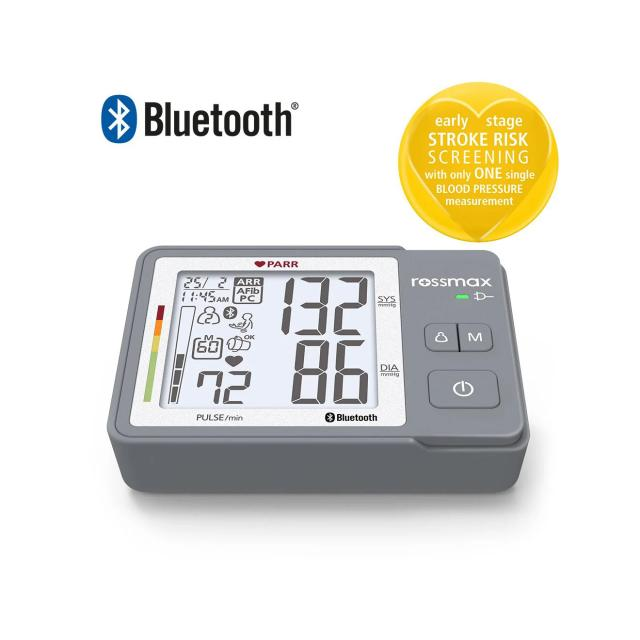dia: (277, 334, 380, 410)
pul: (185, 364, 257, 409)
ssd: (158, 270, 378, 409)
sys: (275, 270, 375, 339)
